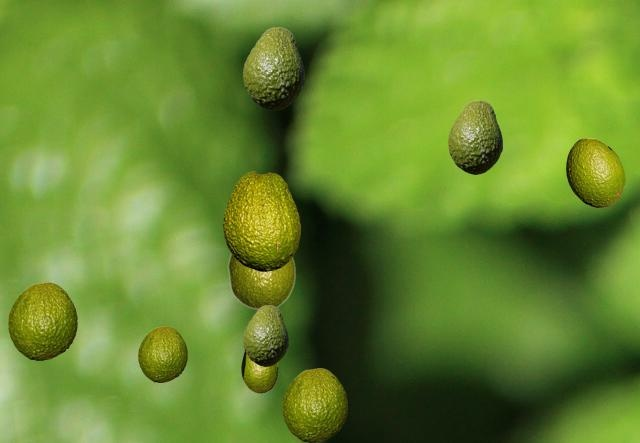avocado: (223, 171, 299, 270), (8, 282, 76, 359), (243, 27, 303, 109), (282, 368, 346, 441), (566, 138, 624, 206), (227, 253, 295, 310), (448, 100, 501, 173), (138, 326, 186, 381), (243, 305, 287, 365), (241, 351, 277, 392)
